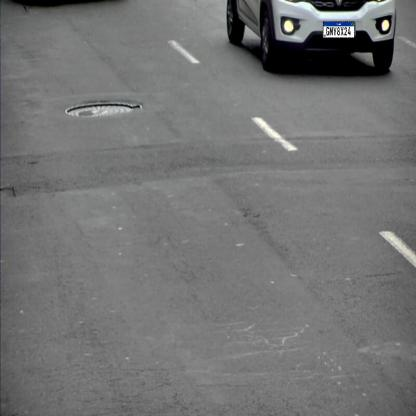PlacaM: (323, 22, 355, 38)
